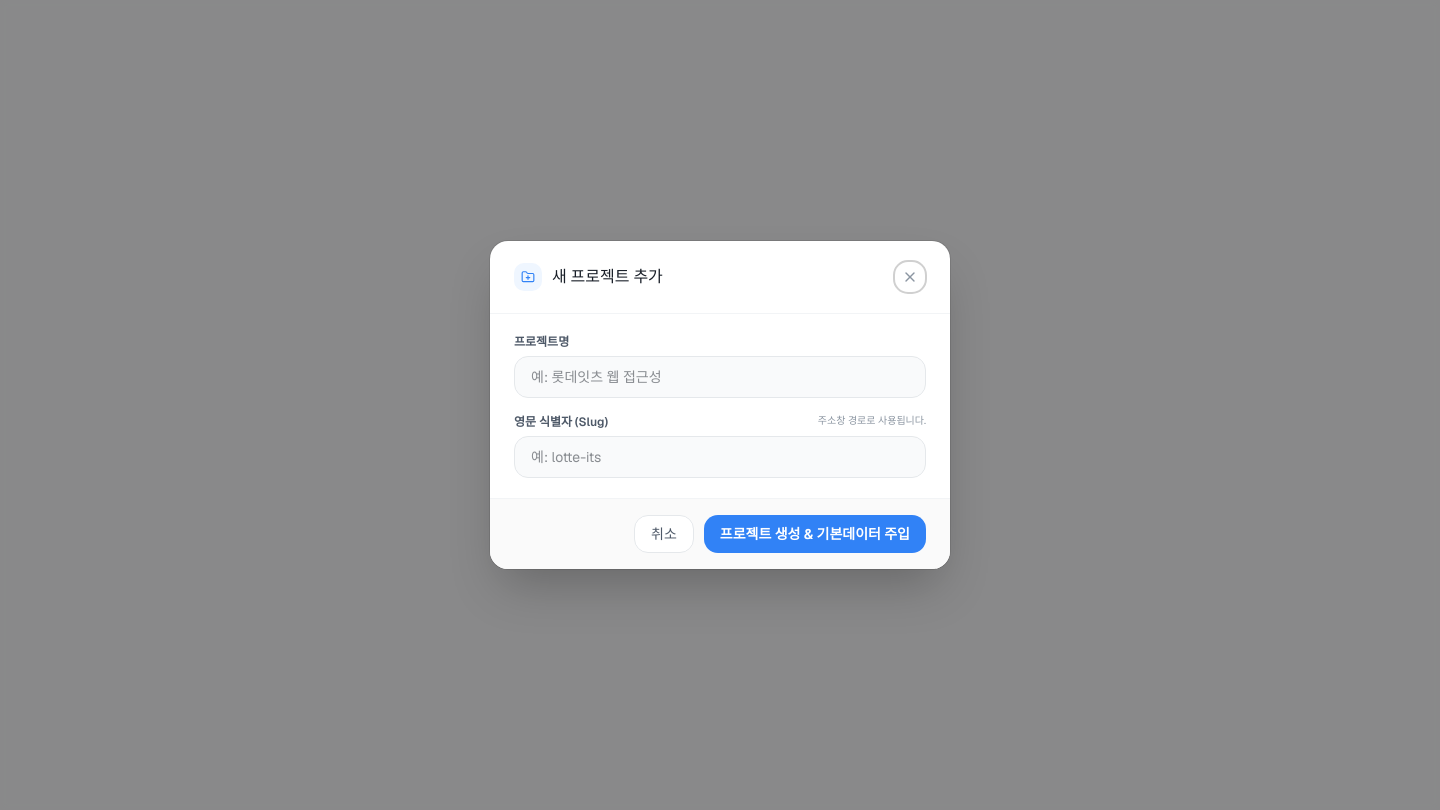
ProjectModal Component › validates against duplicate project names
Type "Duplicate Project" into the field labelled "프로젝트명". click: (720, 377)
box: 514,356 -> 926,398
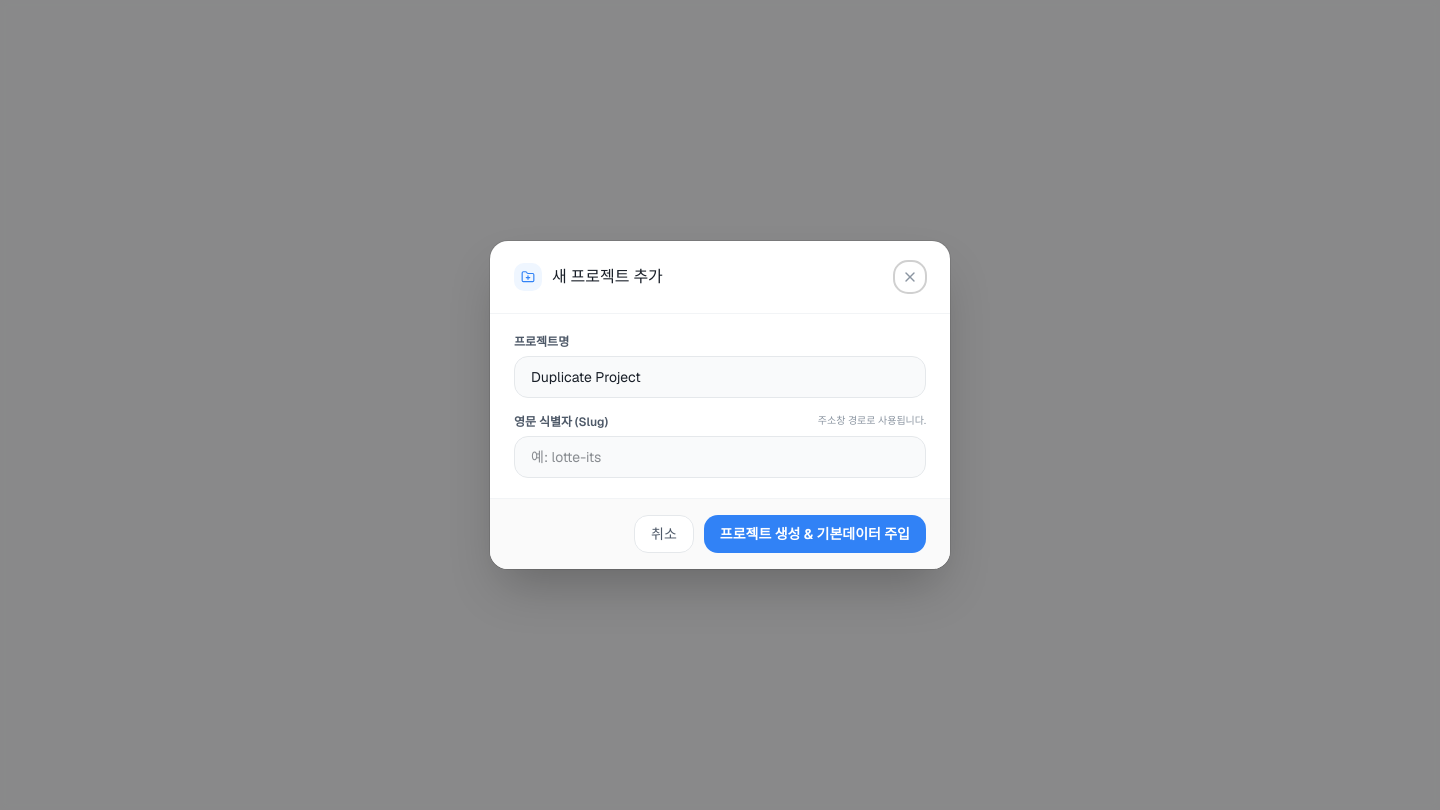
Type "unique-slug" into the field labelled "영문 식별자 (Slug) 주소창 경로로 사용됩니다.". click: (720, 457)
box: 514,436 -> 926,478
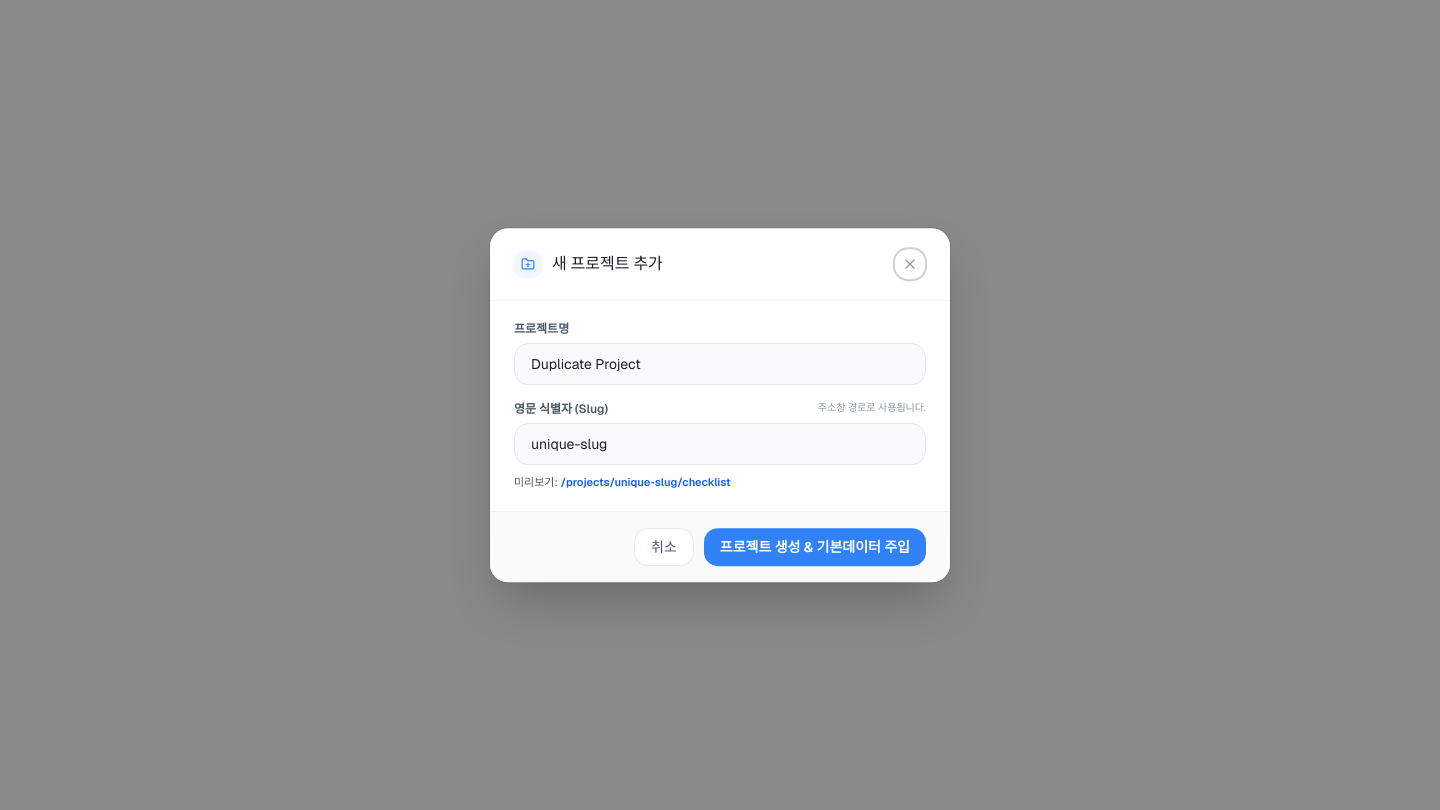
Click the button "프로젝트 생성 & 기본데이터 주입". click: (815, 547)
box: 704,528 -> 926,566
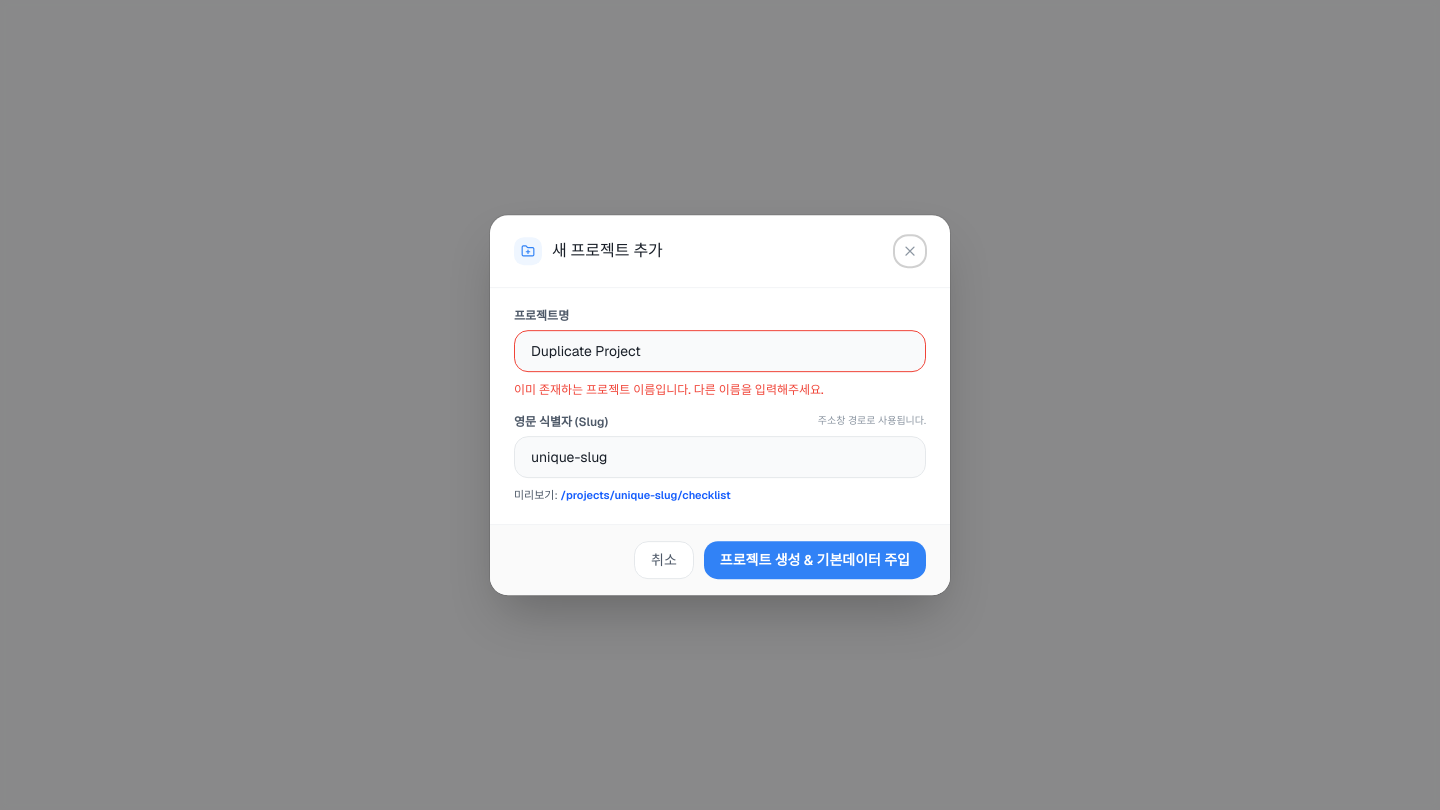
Now the text "이미 존재하는 프로젝트 이름입니다. 다른 이름을 입력해주세요." is shown, box 514,382 -> 824,398
